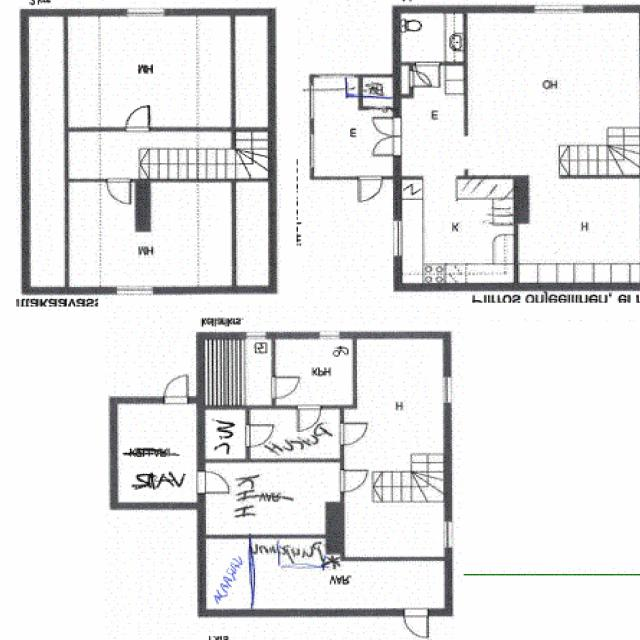door: (196, 471, 230, 493), (404, 609, 428, 639), (164, 374, 187, 404), (245, 425, 275, 447), (358, 176, 382, 202), (106, 178, 130, 204), (271, 376, 299, 398), (371, 136, 401, 156), (340, 423, 367, 445), (416, 62, 440, 86), (126, 106, 149, 131), (340, 471, 367, 492), (298, 405, 320, 430), (371, 118, 401, 136), (409, 71, 431, 86)
